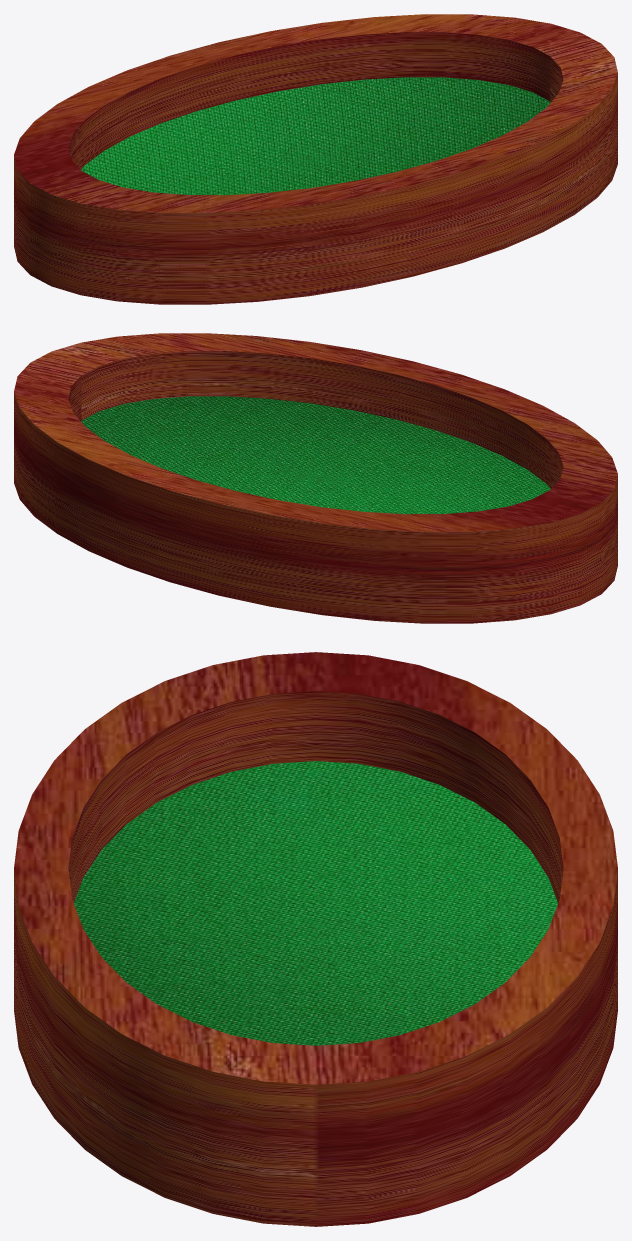
Rendered from mesa de billar 4.0.fbx.
3 views of the same model, one above another, from view 1: azimuth 30°, elevation 25°; view 2: azimuth 150°, elevation 25°; view 3: azimuth 270°, elevation 25° (orthographic). The views are drawn at different scales.
Visible parts, largest first — view 1: Tube, Cylinder; view 2: Tube, Cylinder; view 3: Tube, Cylinder.
Part boxes in pixels (<box>): Tube: <box>14,14,617,304</box>; Cylinder: <box>81,77,550,195</box>; Tube: <box>14,333,617,623</box>; Cylinder: <box>81,396,550,514</box>; Tube: <box>14,652,617,1226</box>; Cylinder: <box>74,761,557,1045</box>.
Bounding box in the file's own units: 559 × 87.87 × 330.
2 materials, 2 textured.
